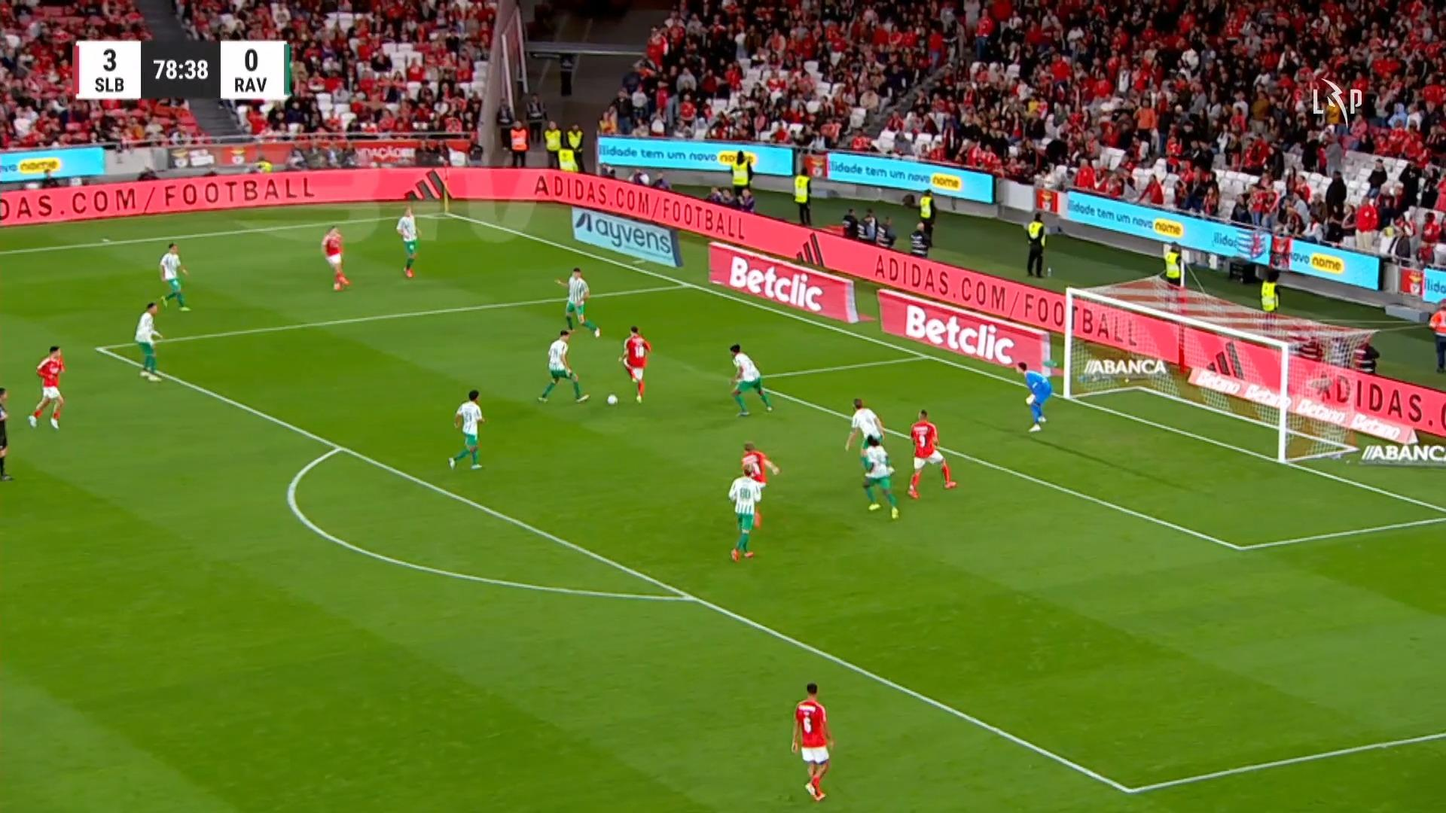ball: (606, 394, 617, 404)
goalkeeper: (1014, 361, 1053, 432)
player: (790, 681, 834, 801), (906, 407, 958, 499), (536, 329, 590, 403), (740, 440, 780, 529), (844, 397, 885, 483), (859, 432, 899, 519), (554, 266, 601, 337), (27, 344, 66, 429), (728, 462, 761, 562), (728, 343, 773, 416), (447, 389, 486, 470), (618, 325, 652, 403), (133, 301, 163, 381), (157, 242, 191, 312), (321, 225, 350, 291), (395, 206, 420, 278)
referee: (0, 386, 14, 481)
